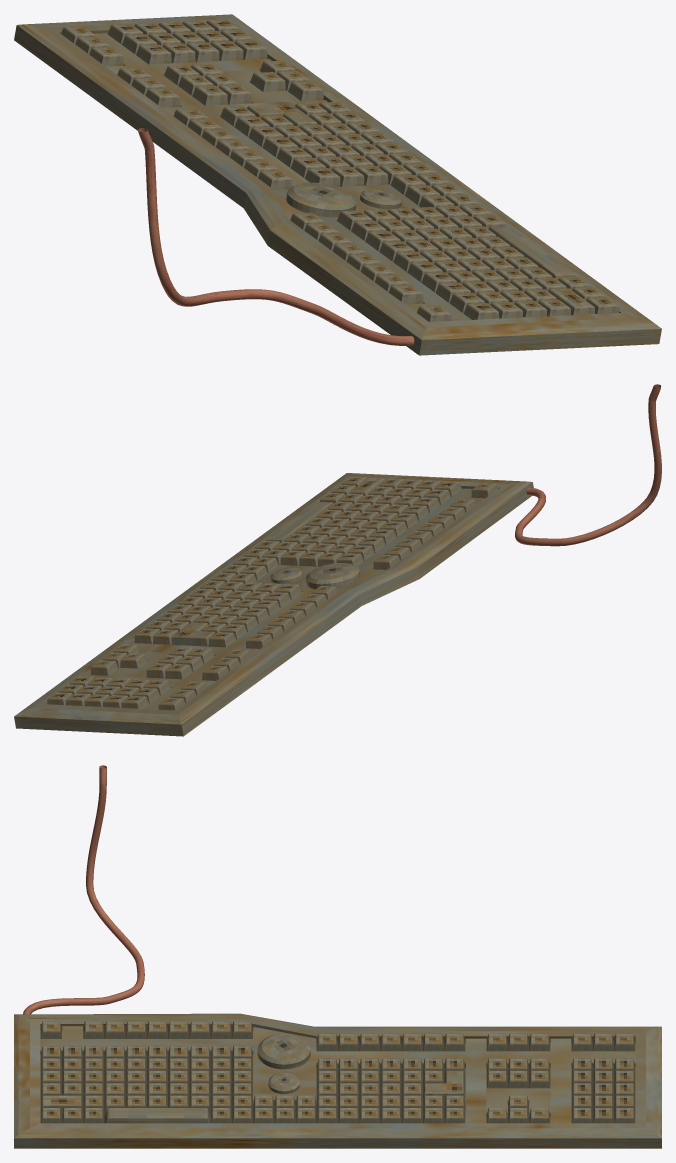
The model's file is Teclado.fbx.
The picture shows the model from 3 angles, top to bottom: view 1: azimuth 30°, elevation 25°; view 2: azimuth 150°, elevation 25°; view 3: azimuth 270°, elevation 25°; orthographic projection. The views are drawn at different scales.
Parts seen in each view (by area): view 1: Base, Cable, Perilla G, Espacio, Enter, Perilla C, Tecla.069, Tecla.127, Tecla.099, Flecha Arriba, Flecha Izq, Tecla.122 (+5 smaller); view 2: Base, Cable, Perilla G, Espacio, Enter; view 3: Base, Cable, Espacio, Perilla G, Enter, Tecla.069, Perilla C.
Part boxes in pixels (x1,y1,x2,y2): Base: (14, 14, 661, 355); Cable: (138, 128, 414, 345); Perilla G: (286, 182, 356, 217); Espacio: (488, 226, 575, 279); Enter: (247, 104, 317, 127); Perilla C: (360, 188, 402, 209); Tecla.069: (548, 288, 594, 315); Tecla.127: (136, 44, 171, 64); Tecla.099: (192, 85, 227, 105); Flecha Arriba: (250, 72, 285, 91); Flecha Izq: (288, 81, 323, 100); Tecla.122: (89, 47, 123, 66); Base: (14, 473, 533, 736); Cable: (515, 384, 661, 546); Perilla G: (306, 563, 360, 589); Espacio: (266, 501, 333, 542); Enter: (171, 622, 215, 646); Base: (14, 1013, 661, 1148); Cable: (23, 765, 144, 1014); Espacio: (104, 1108, 210, 1123); Perilla G: (257, 1033, 310, 1069); Enter: (423, 1070, 465, 1104); Tecla.069: (40, 1095, 83, 1116); Perilla C: (268, 1072, 299, 1093).
Size of the model in its own units: 21.34 by 12.4 by 34.18.
